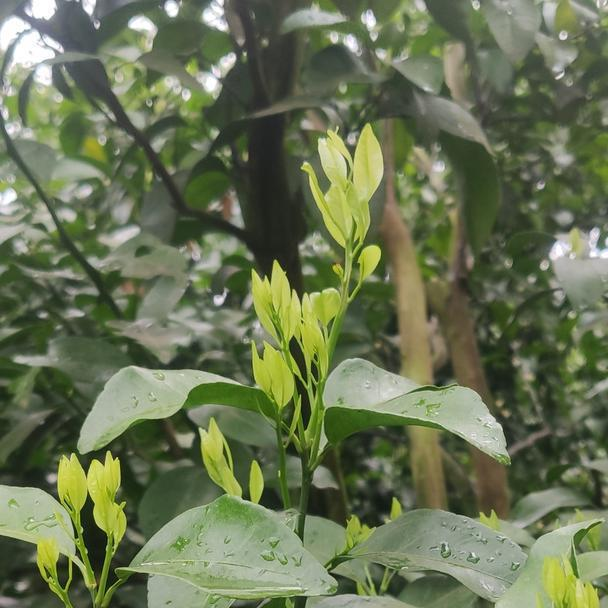shoot: (308, 123, 394, 300), (252, 267, 326, 380), (246, 344, 302, 448), (193, 423, 260, 508), (43, 453, 91, 548), (89, 456, 136, 553), (27, 544, 85, 605)
